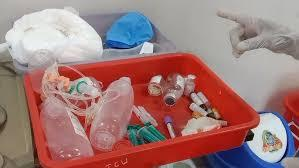Glove: (217, 11, 298, 58), (281, 157, 298, 167)
Iv_Bottle: (40, 96, 93, 159), (90, 77, 133, 151), (164, 73, 184, 105), (184, 74, 195, 95)
